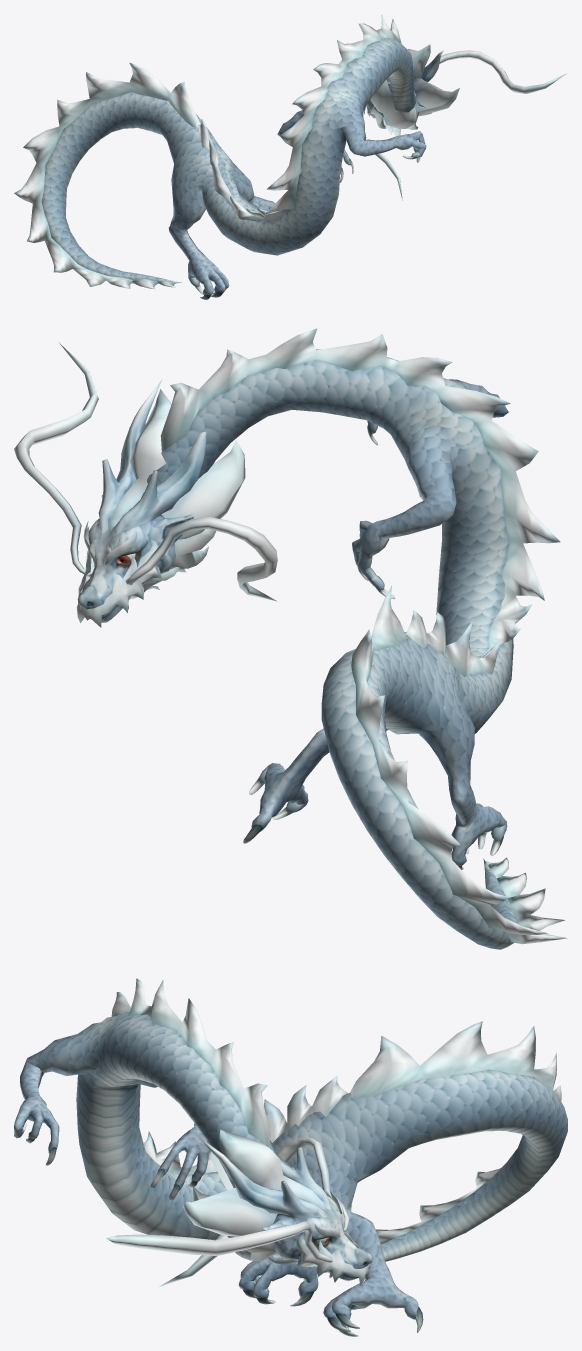
Rendered from Dragon_ver2.fbx.
The picture shows the model from 3 angles, top to bottom: view 1: azimuth 30°, elevation 25°; view 2: azimuth 150°, elevation 25°; view 3: azimuth 270°, elevation 25°; orthographic projection. The views are drawn at different scales.
Visible parts, largest first — view 1: Dragon_body, HairD, HairA, Beard; view 2: Dragon_body, HairD, Beard, HairA, HairB; view 3: Dragon_body, HairD, HairA, Beard, HairB.
Boxes of the visible parts, x1=… form: Dragon_body: x1=41, y1=37, x2=443, y2=299; HairD: x1=14, y1=15, x2=401, y2=289; HairA: x1=370, y1=44, x2=459, y2=129; Beard: x1=375, y1=50, x2=566, y2=200; Dragon_body: x1=76, y1=349, x2=517, y2=949; HairD: x1=160, y1=328, x2=567, y2=944; Beard: x1=14, y1=343, x2=277, y2=601; HairA: x1=109, y1=389, x2=245, y2=539; HairB: x1=170, y1=529, x2=216, y2=572; Dragon_body: x1=14, y1=1012, x2=567, y2=1336; HairD: x1=111, y1=978, x2=561, y2=1266; HairA: x1=183, y1=1129, x2=326, y2=1236; Beard: x1=106, y1=1137, x2=349, y2=1286; HairB: x1=227, y1=1236, x2=279, y2=1261.
Size of the model in its own units: 35.05 by 21.44 by 27.16.
1 material, 1 textured.
